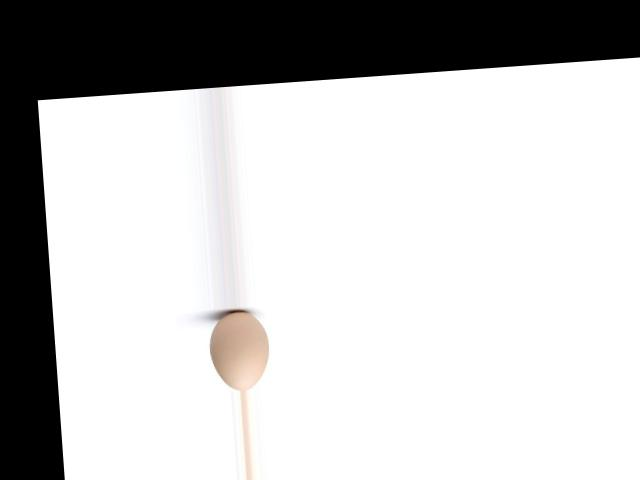egg: (208, 309, 271, 391)
